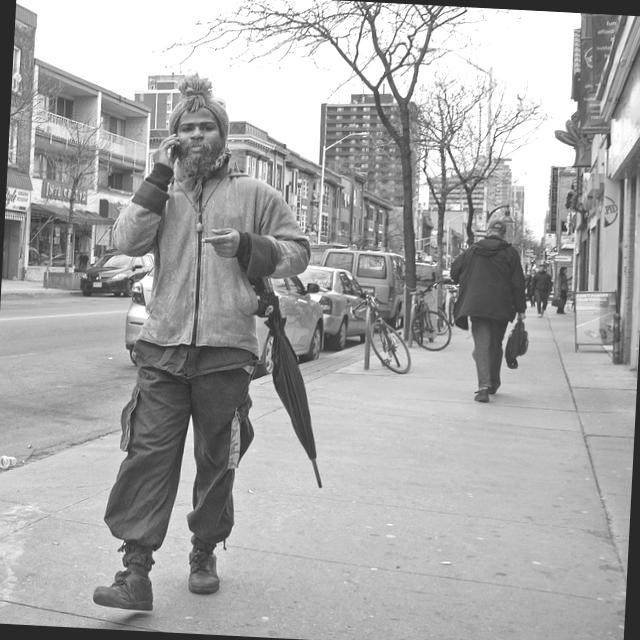Vehicle: (121, 264, 328, 378), (318, 248, 407, 328), (296, 265, 370, 350), (77, 250, 157, 301), (414, 262, 438, 292)
